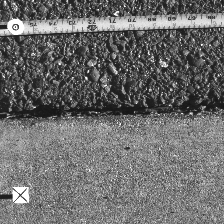circle: (7, 19, 25, 35)
crack: (1, 101, 223, 121)
square: (11, 186, 29, 204)
